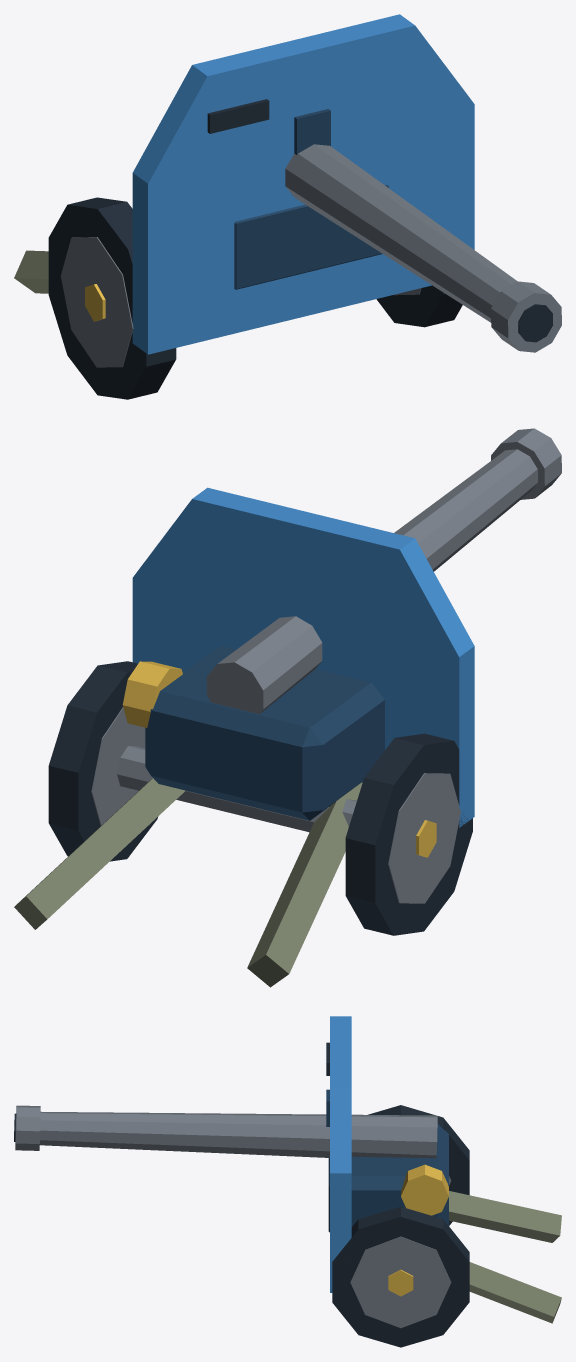
Rendered from u_at_gun.glb.
3 renders of one model, top to bottom at view 1: azimuth 30°, elevation 25°; view 2: azimuth 150°, elevation 25°; view 3: azimuth 270°, elevation 25°, orthographic. The views are drawn at different scales.
Visible parts, largest first — view 1: u_at_gun; view 2: u_at_gun; view 3: u_at_gun.
Boxes of the visible parts, x1,y1,x2,y2 form: u_at_gun: [14, 14, 561, 399]; u_at_gun: [14, 428, 561, 987]; u_at_gun: [14, 1016, 561, 1347].
Bounding box in the file's own units: 0.225 × 0.22 × 0.4556.
